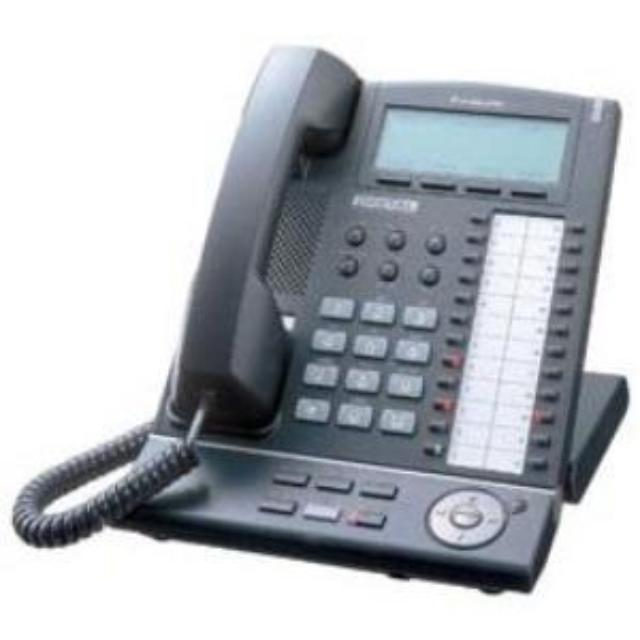Telephone-Set: (9, 42, 633, 596)
